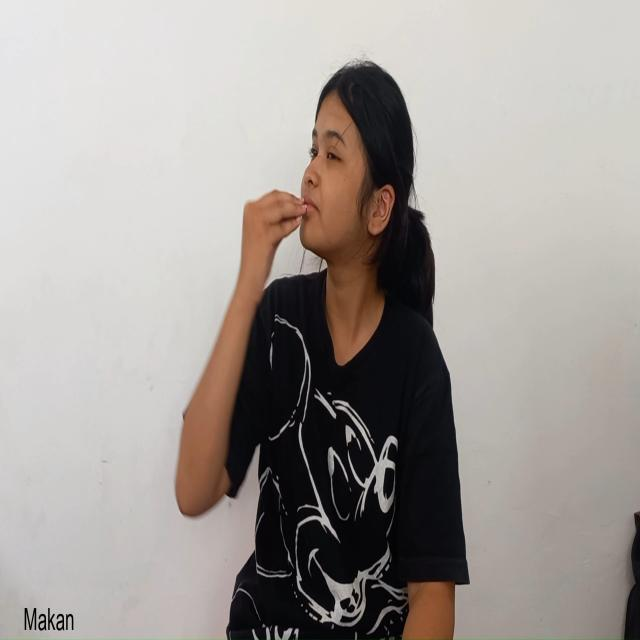Makan -BISINDO-: (239, 59, 395, 311)
